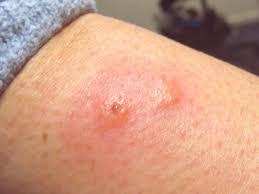Chiggers: (87, 68, 186, 128)
